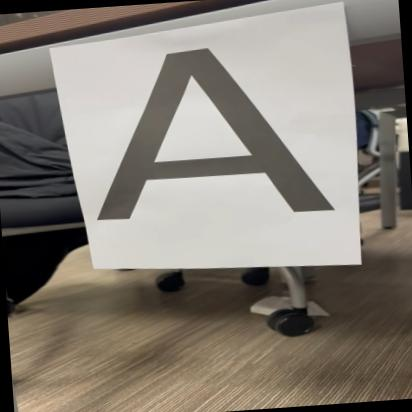seat: (73, 36, 346, 228)
